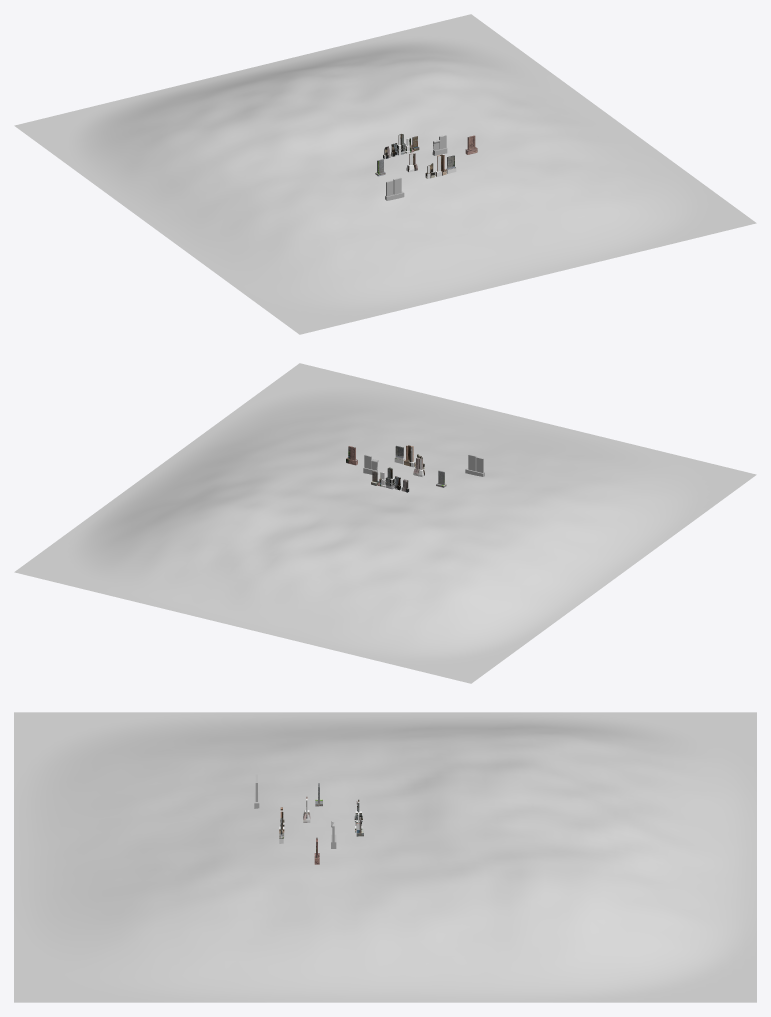
The model's file is WholeScene.fbx.
The picture shows the model from 3 angles, top to bottom: view 1: azimuth 30°, elevation 25°; view 2: azimuth 150°, elevation 25°; view 3: azimuth 270°, elevation 25°; orthographic projection. The views are drawn at different scales.
Visible parts, largest first — view 1: Landscape; view 2: Landscape; view 3: Landscape.
Boxes of the visible parts, x1,y1,x2,y2 form: Landscape: [14, 14, 756, 334]; Landscape: [14, 363, 756, 683]; Landscape: [14, 712, 756, 1002].
Size of the model in its own units: 2252 by 220 by 2438.
